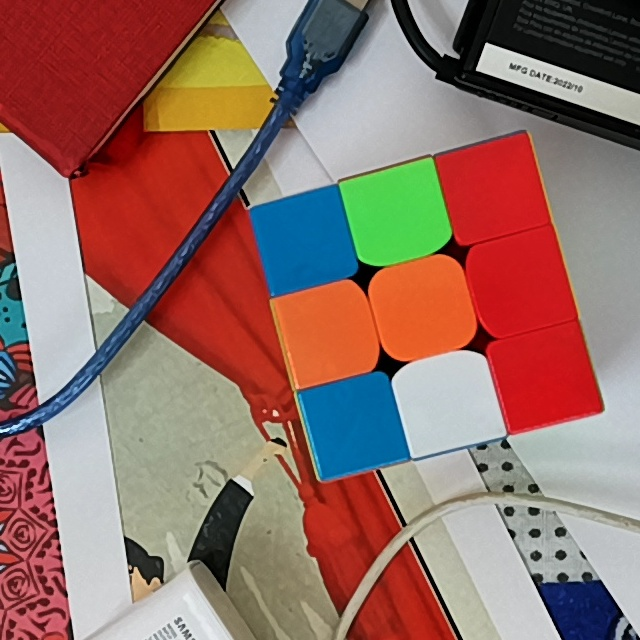tile: (454, 150, 532, 225), (408, 365, 489, 437), (482, 245, 559, 318), (503, 341, 581, 413), (385, 270, 463, 341), (291, 296, 367, 367), (358, 180, 435, 250), (314, 388, 391, 457), (271, 203, 341, 274)
